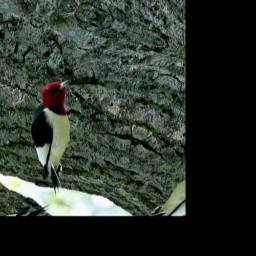Woodpecker: (0, 65, 122, 201)
